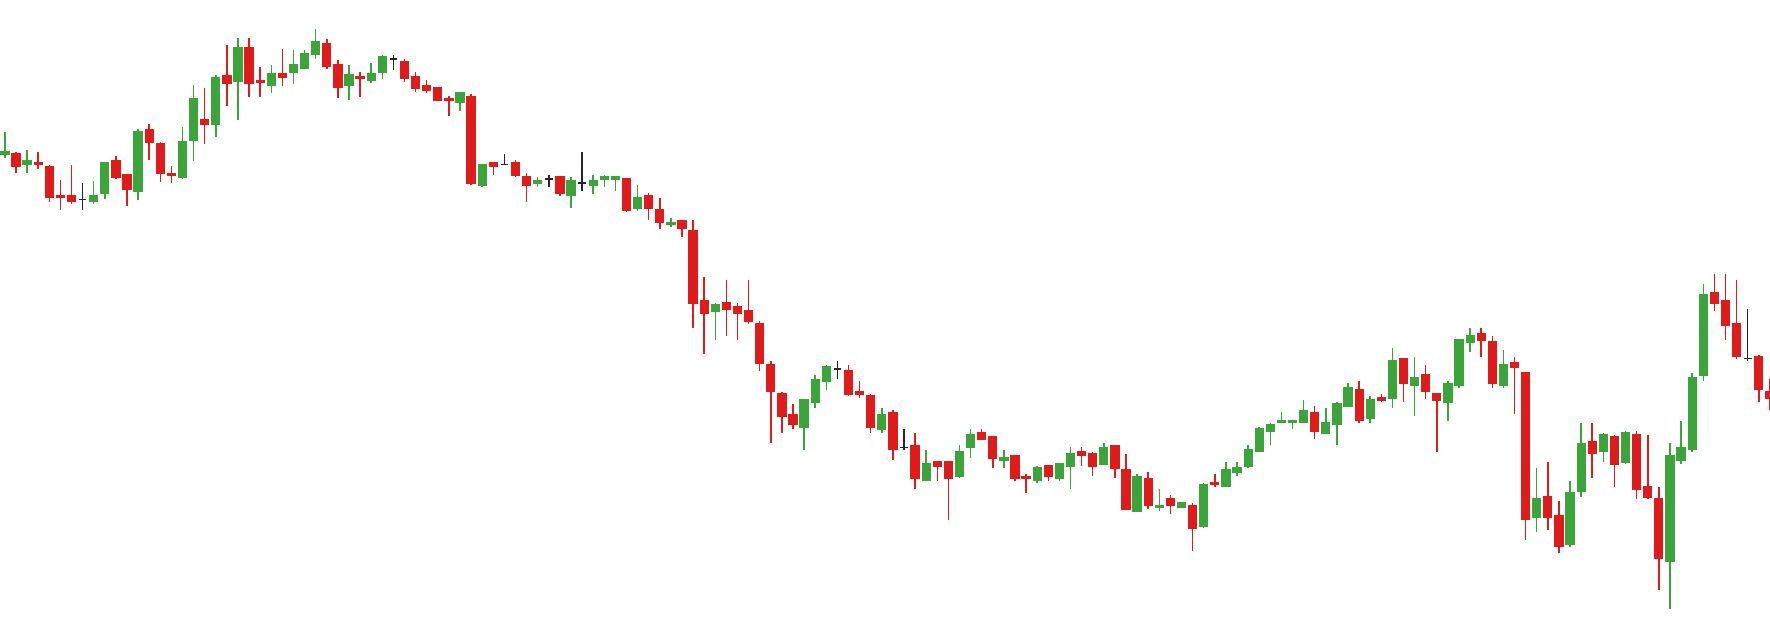buy: (1556, 486, 1677, 613)
sell: (1464, 276, 1733, 406)
